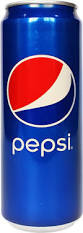pepsi: (1, 1, 81, 233)
